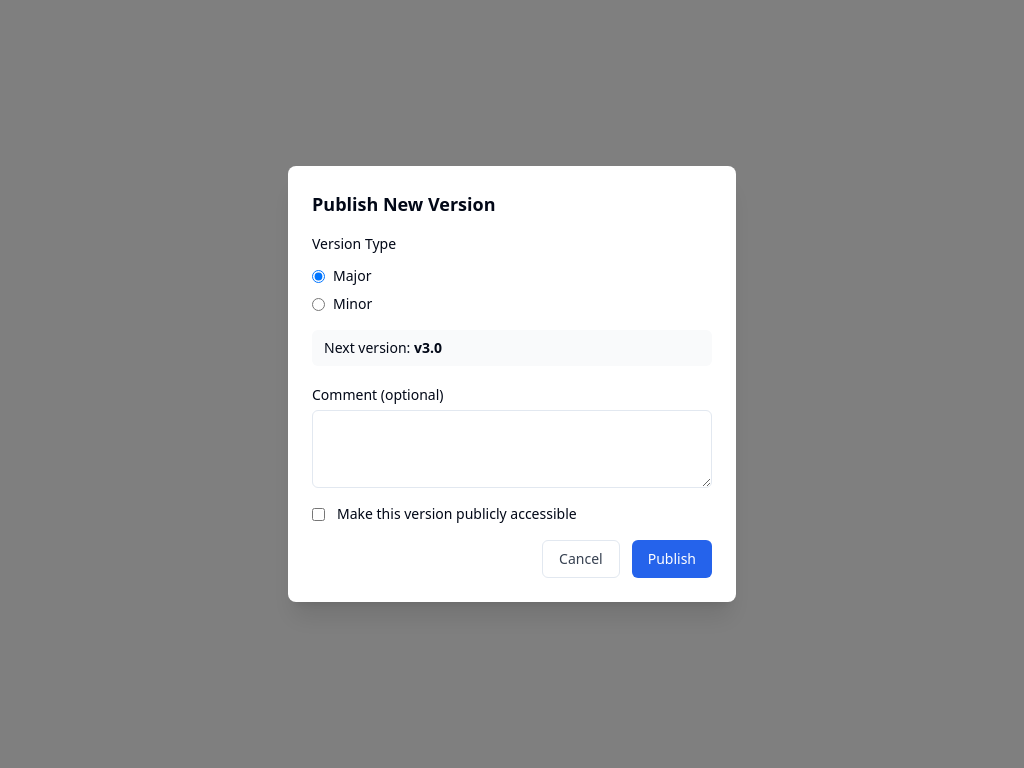
it: PublishDialog › switches to minor bump when Minor radio is selected
What coordinates should you click on to do the following:
click the radio button labelled "Minor"
I would click on:
 (318, 304)
Its box is 312,298 -> 325,310.
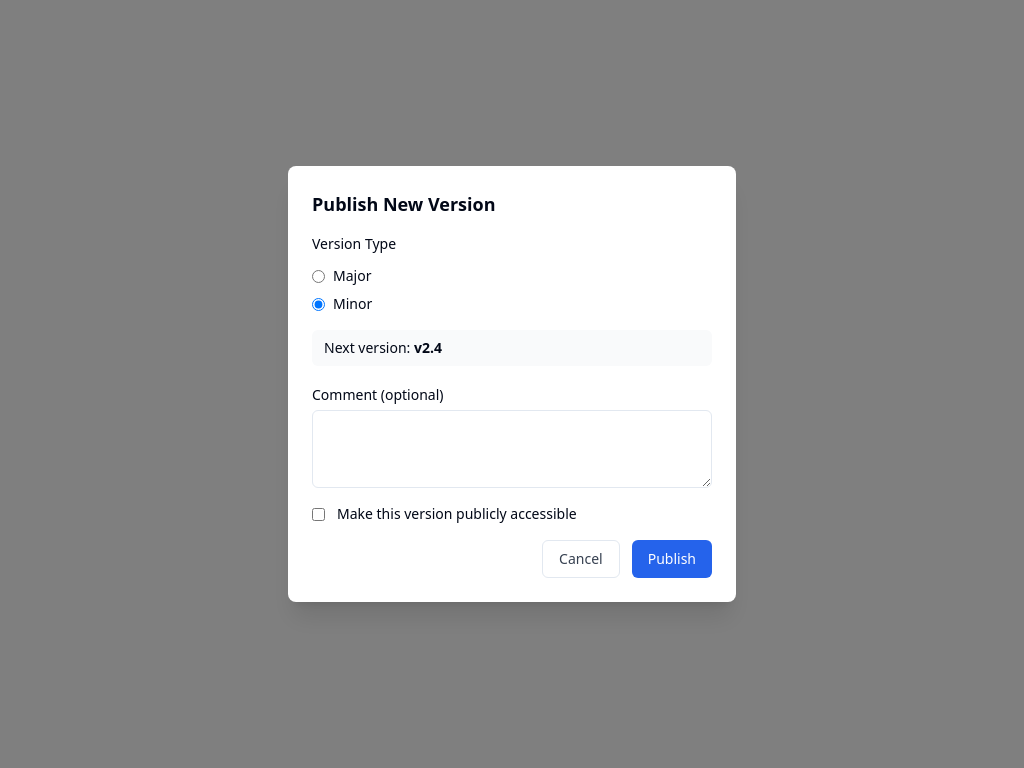
Check: the text "v2.4" is shown, box 414,338 -> 442,357
